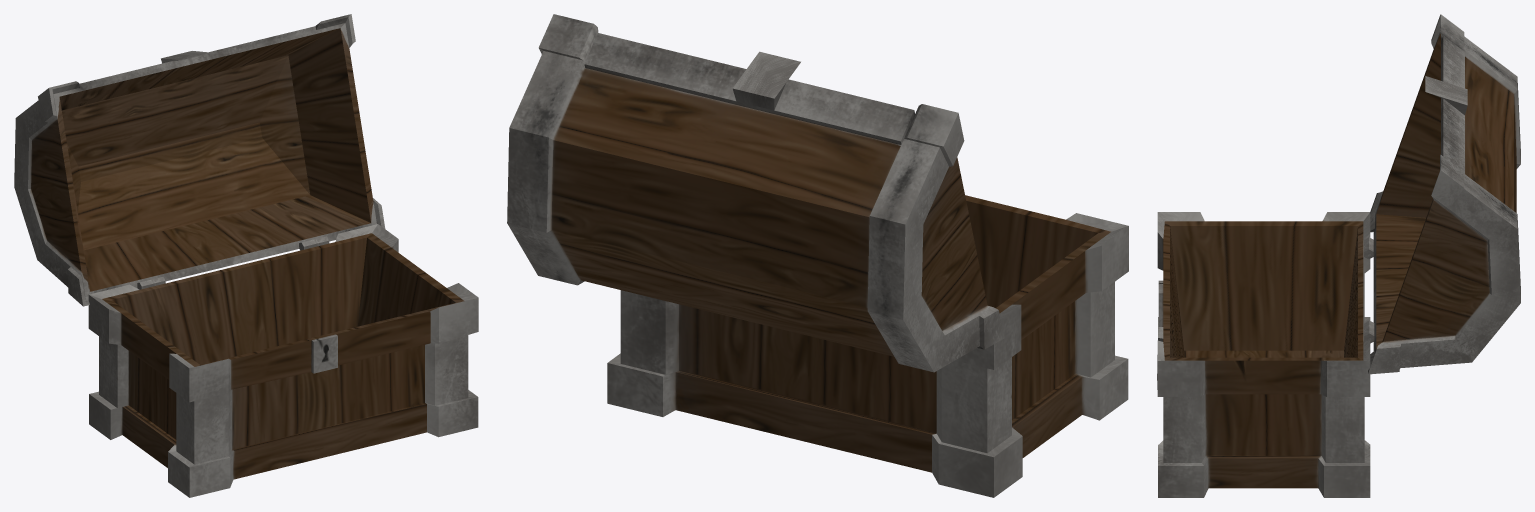
File: SM_Chest.fbx
3 renders of one model, left to right at view 1: azimuth 30°, elevation 25°; view 2: azimuth 150°, elevation 25°; view 3: azimuth 270°, elevation 25°, orthographic. The views are drawn at different scales.
Visible parts, largest first — view 1: pCube3; view 2: pCube3; view 3: pCube3.
Part boxes in pixels (<box>): pCube3: <box>14,14,478,497</box>; pCube3: <box>507,14,1128,497</box>; pCube3: <box>1157,14,1520,497</box>.
Bounding box in the file's own units: 2.77 × 2.77 × 2.73.
